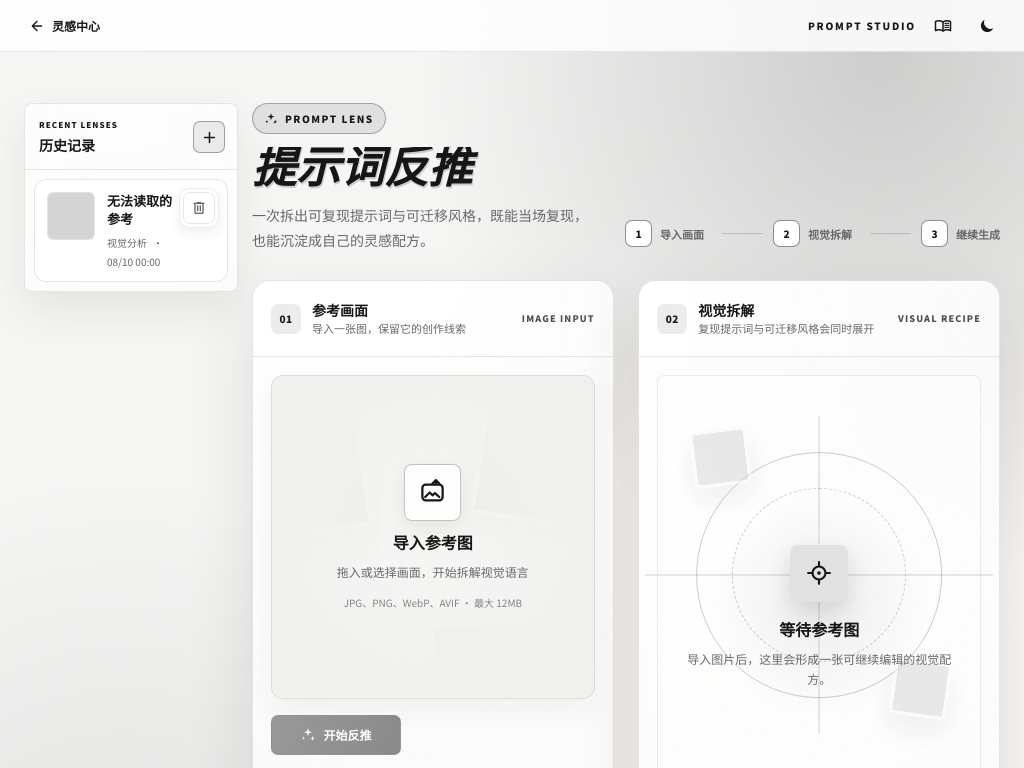
Test case: ImagePromptPage workspace layout › stops reproduction when a history source image cannot be read
Click the button "无法读取的参考 视觉分析 · 08/10 00:00": (131, 230) [35,180,227,281]
(page scrolled)
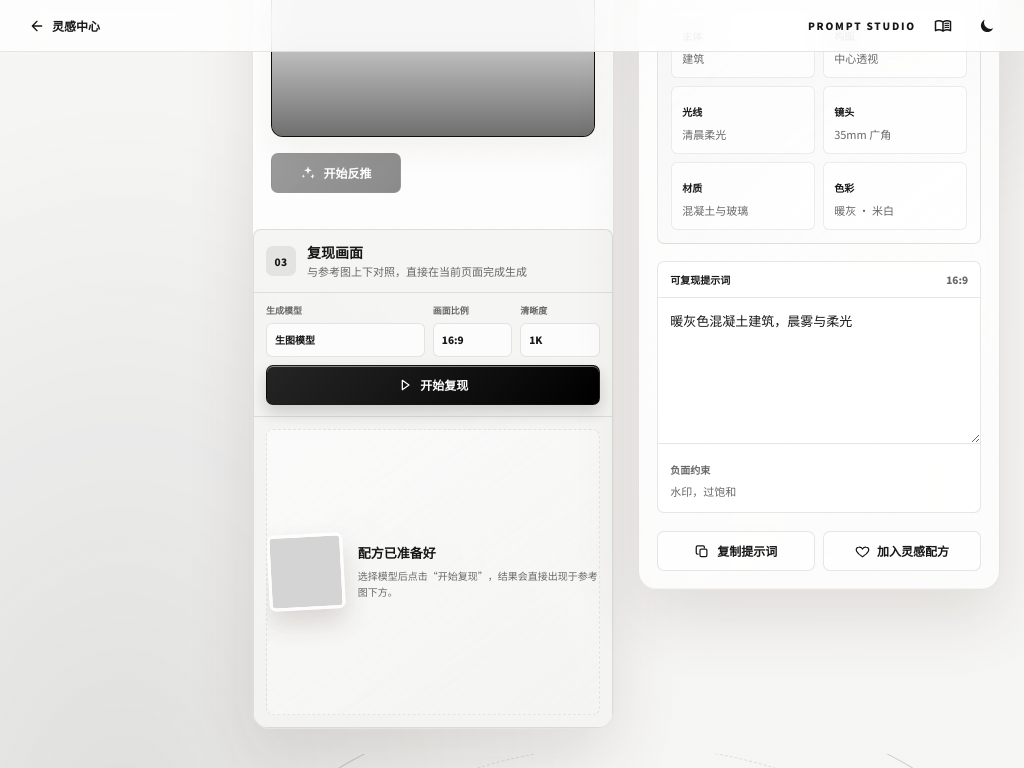
Now the button "开始复现" is enabled
Click the button "开始复现": (433, 385) [266,365,600,405]
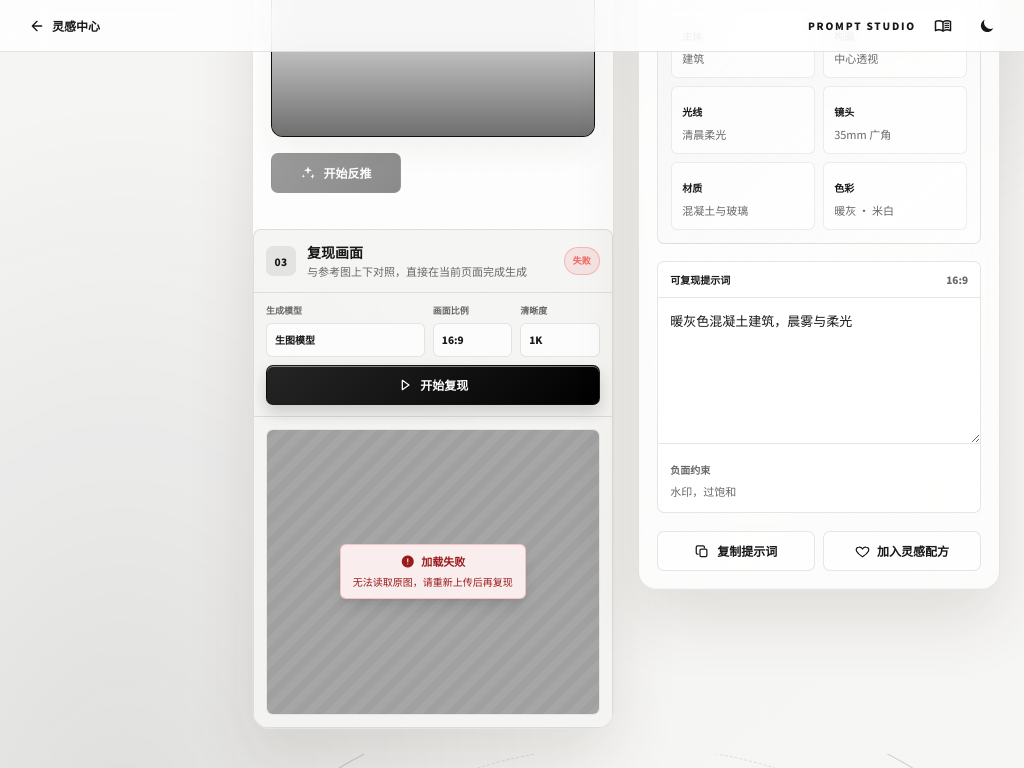
Now the text "无法读取原图，请重新上传后再复现" is shown, box [353,574,513,590]
